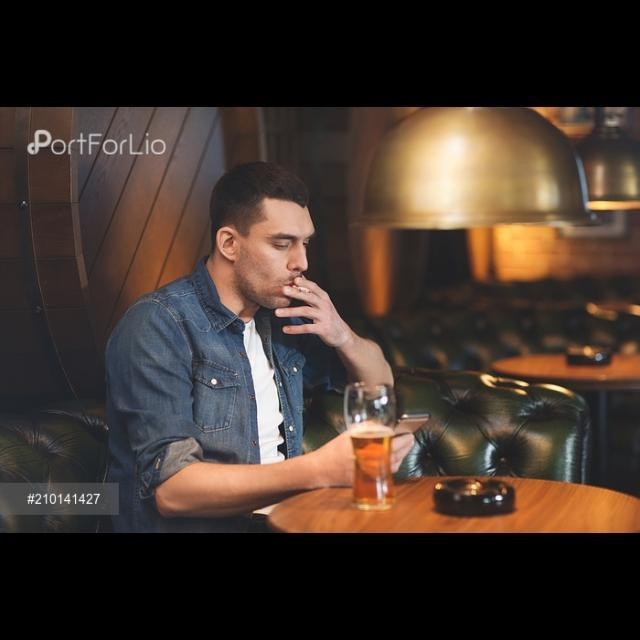rokok: (295, 284, 311, 294)
